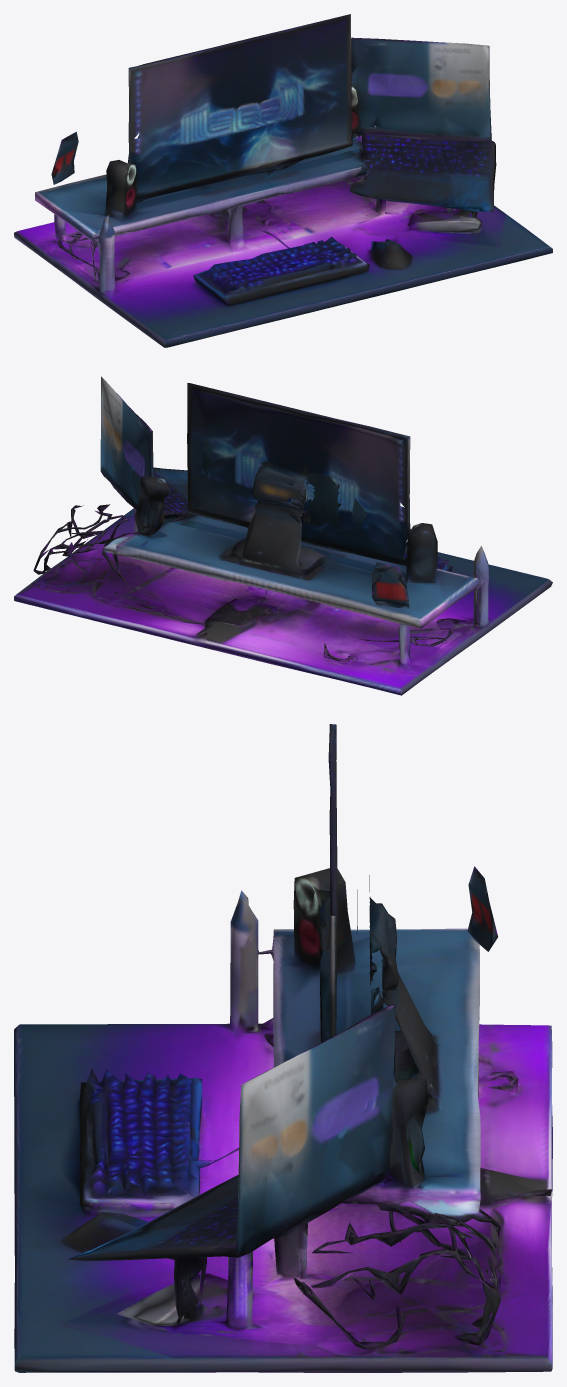
The model's file is Neon.glb.
The picture shows the model from 3 angles, top to bottom: view 1: azimuth 30°, elevation 25°; view 2: azimuth 150°, elevation 25°; view 3: azimuth 270°, elevation 25°; orthographic projection. The views are drawn at different scales.
Bounding box in the file's own units: 2.01 × 0.9927 × 1.35.
Materials: 1 (1 with a texture image).
